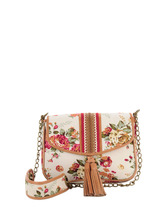bag: (18, 105, 153, 205)
